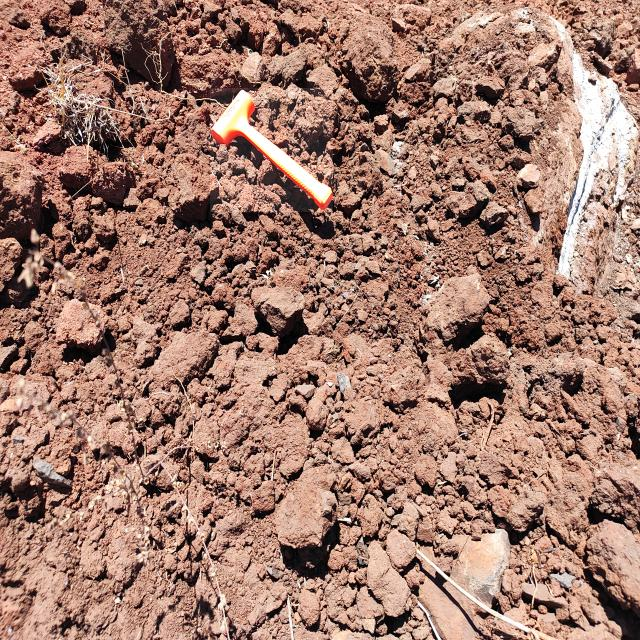Orange_hammer: (210, 88, 333, 212)
